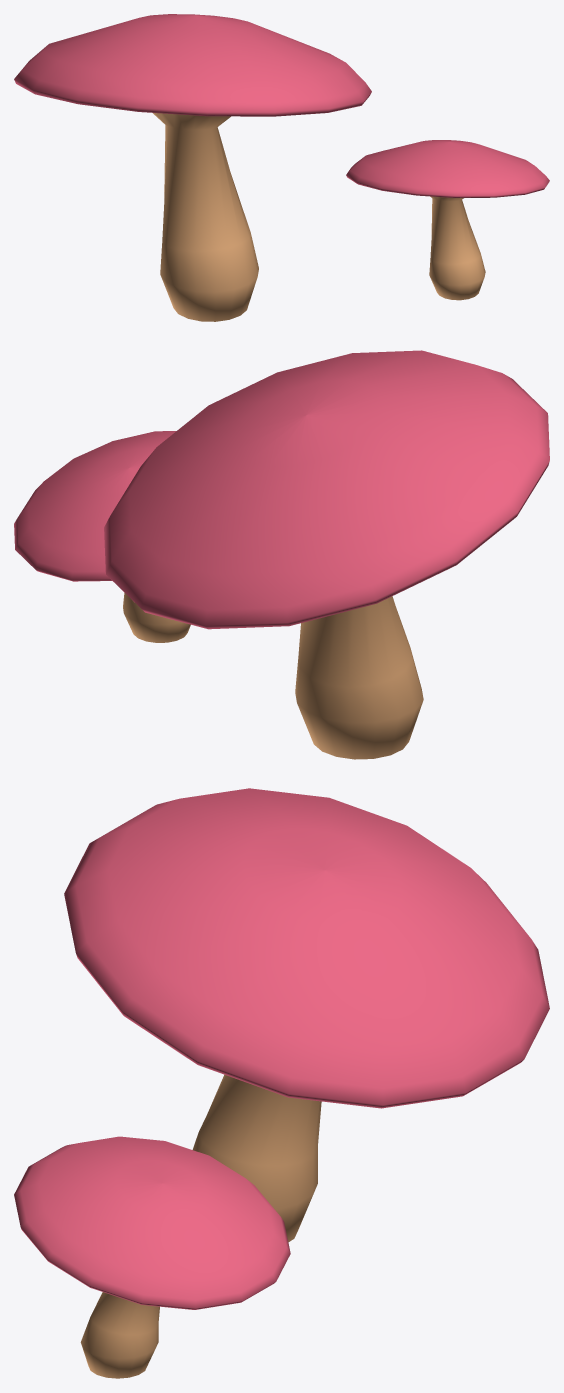
Rendered from MushroomSet1.fbx.
3 renders of one model, top to bottom at view 1: azimuth 30°, elevation 25°; view 2: azimuth 150°, elevation 25°; view 3: azimuth 270°, elevation 25°, orthographic. The views are drawn at different scales.
Visible parts, largest first — view 1: Cylinder.009; view 2: Cylinder.009; view 3: Cylinder.009.
Part boxes in pixels (x1,y1,x2,y2): Cylinder.009: [14, 14, 549, 321]; Cylinder.009: [14, 350, 549, 759]; Cylinder.009: [14, 788, 549, 1378].
Bounding box in the file's own units: 146 × 87.53 × 112.
